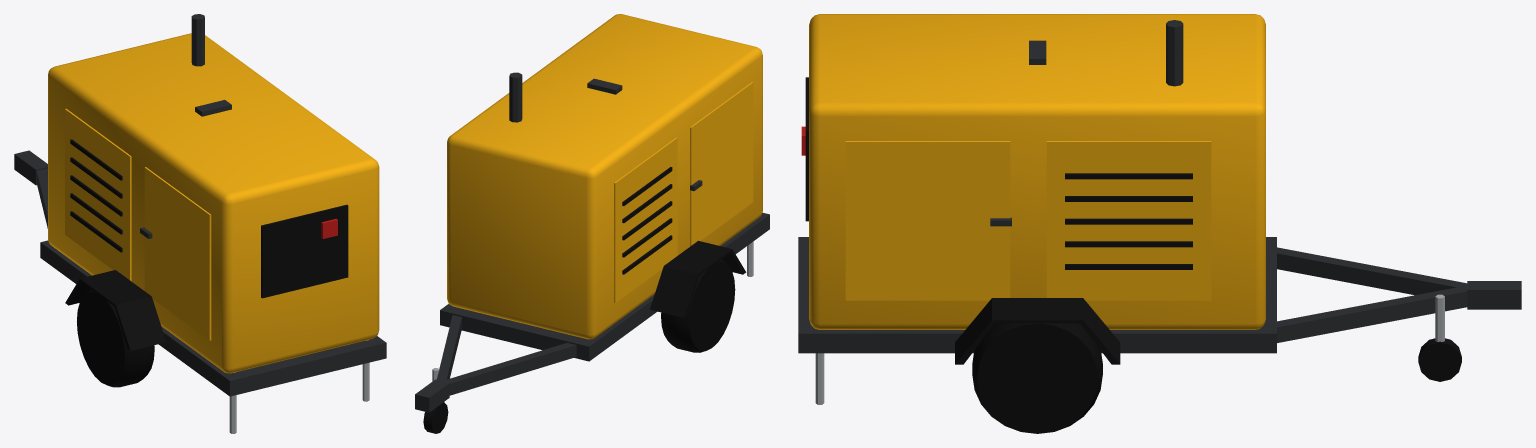
The model's file is plant.small.generator.glb.
3 renders of one model, left to right at view 1: azimuth 30°, elevation 25°; view 2: azimuth 150°, elevation 25°; view 3: azimuth 270°, elevation 25°, orthographic. The views are drawn at different scales.
Visible parts, largest first — view 1: main__plant_yellow, main__steel_dark, main__plastic_black, wheels__rubber, wheels__plastic_black, main__steel_galvanised; view 2: main__plant_yellow, main__steel_dark, wheels__rubber, wheels__plastic_black, main__plastic_black; view 3: main__plant_yellow, main__steel_dark, wheels__rubber, main__plastic_black, wheels__plastic_black, main__steel_galvanised.
Part boxes in pixels (<box>): main__plant_yellow: <box>48,33,379,373</box>; main__steel_dark: <box>14,14,386,396</box>; main__plastic_black: <box>70,139,348,298</box>; wheels__rubber: <box>77,289,154,387</box>; wheels__plastic_black: <box>65,270,166,350</box>; main__steel_galvanised: <box>229,340,369,433</box>; main__plant_yellow: <box>447,14,762,339</box>; main__steel_dark: <box>415,72,769,412</box>; wheels__rubber: <box>661,259,735,352</box>; wheels__plastic_black: <box>650,240,746,317</box>; main__plastic_black: <box>423,167,672,433</box>; main__plant_yellow: <box>809,14,1265,329</box>; main__steel_dark: <box>798,20,1521,353</box>; wheels__rubber: <box>972,323,1102,433</box>; main__plastic_black: <box>805,77,1461,381</box>; wheels__plastic_black: <box>955,298,1120,364</box>; main__steel_galvanised: <box>815,294,1444,404</box>.
Bounding box in the file's own units: 1.55 × 1.87 × 3.32.
